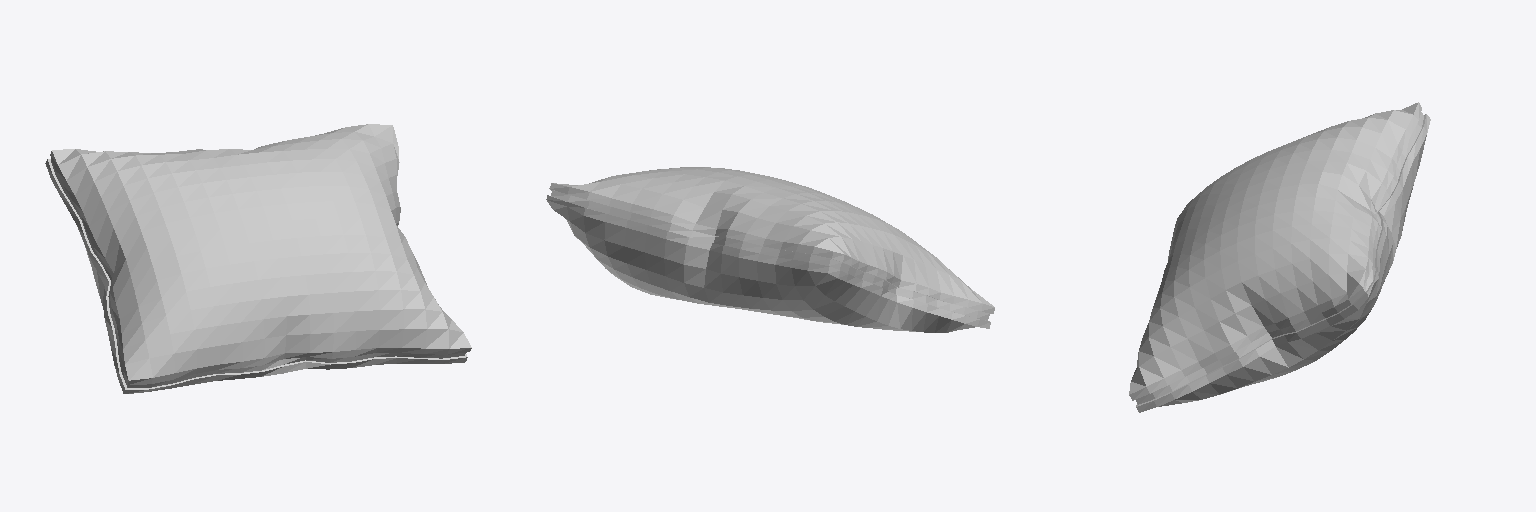
Rendered from PillowF.obj.
The picture shows the model from 3 angles: view 1: azimuth 30°, elevation 25°; view 2: azimuth 150°, elevation 25°; view 3: azimuth 270°, elevation 25°; orthographic projection.
Parts seen in each view (by area): view 1: pillow3; view 2: pillow3; view 3: pillow3.
Boxes of the visible parts, x1,y1,x2,y2 form: pillow3: [45, 124, 471, 393]; pillow3: [546, 167, 994, 332]; pillow3: [1129, 102, 1430, 412].
Size of the model in its own units: 10.36 by 5.01 by 7.64.